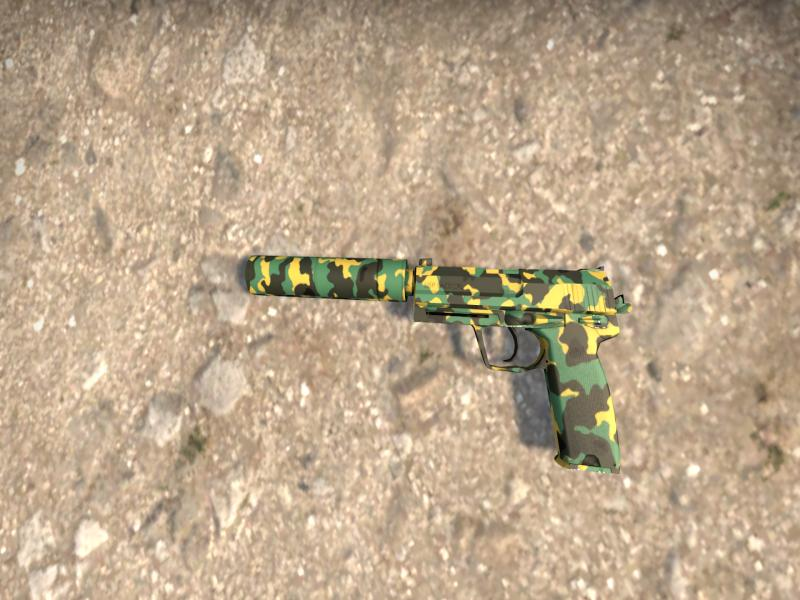USP: (245, 254, 632, 473)
